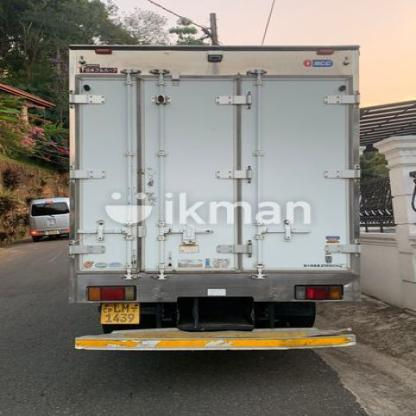Lorry back: (56, 36, 366, 361)
number plate: (94, 300, 143, 326)
